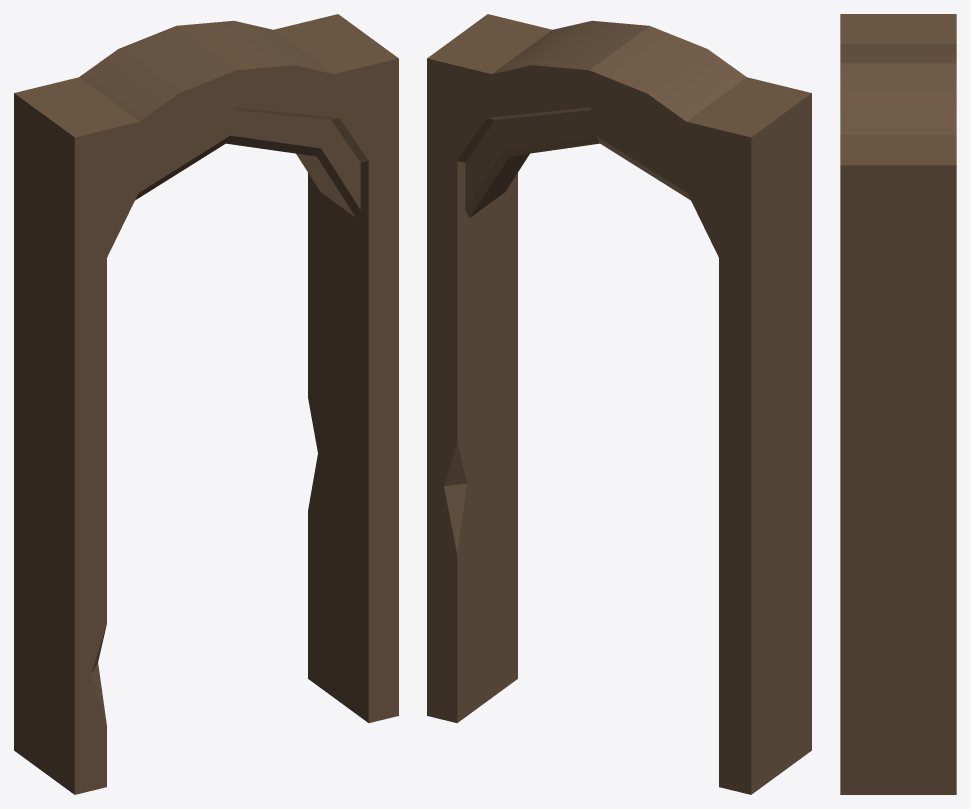
File: SM_Bld_Village_Door_02.glb
3 views of the same model, side by side, from view 1: azimuth 30°, elevation 25°; view 2: azimuth 150°, elevation 25°; view 3: azimuth 270°, elevation 25° (orthographic). The views are drawn at different scales.
Visible parts, largest first — view 1: SM_Bld_Village_Door_02; view 2: SM_Bld_Village_Door_02; view 3: SM_Bld_Village_Door_02.
Boxes of the visible parts, x1=… form: SM_Bld_Village_Door_02: x1=14, y1=14, x2=398, y2=794; SM_Bld_Village_Door_02: x1=427, y1=14, x2=811, y2=794; SM_Bld_Village_Door_02: x1=840, y1=14, x2=956, y2=794.
Size of the model in its own units: 1.27 by 2.57 by 0.4119.
1 material, 1 textured.
